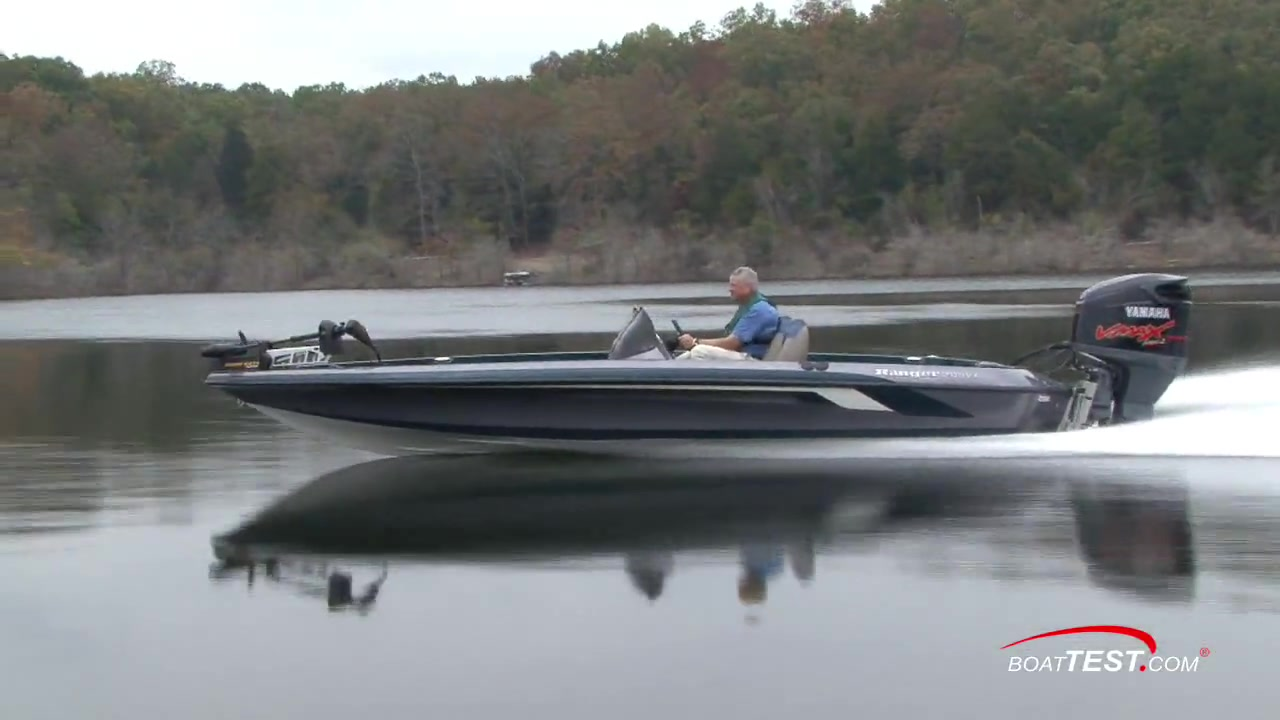boat: (197, 272, 1199, 448)
